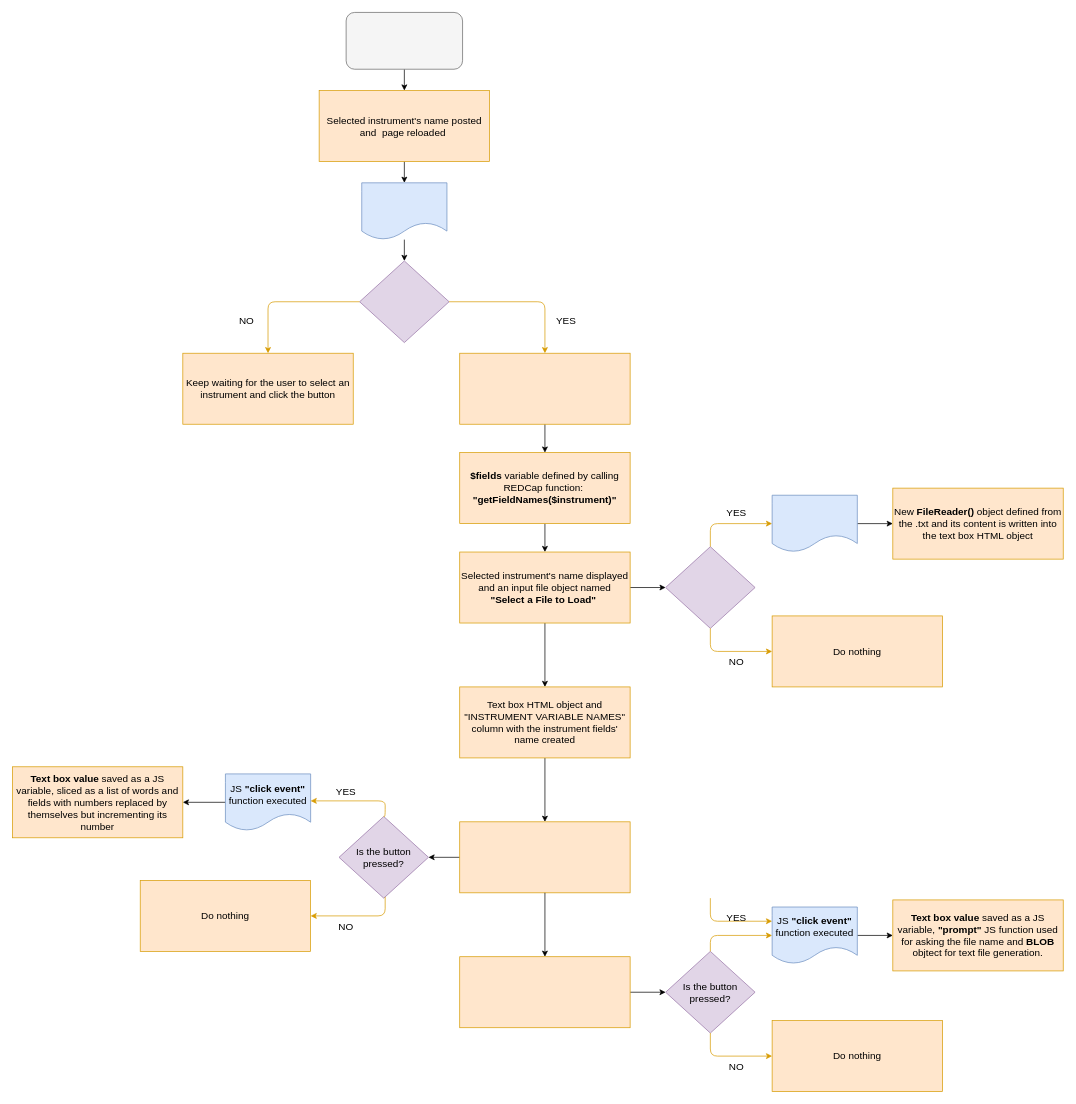
This 1076x1104 diagram has some shape labels left out. Each missing label, with the centre of its shape:
"Save template" button created: (544,992)
"Select Instrument" b utton clicked: (404,40)
$instrument variable defined by retriving posted instruments's name: (544,388)
Is the file loaded?: (710,587)
Is the name posted?: (404,301)
JS "loadFileAsText()" "function executed: (814,523)
PHP page script executed: (404,211)
Text box and "Update Text" button created: (544,857)
